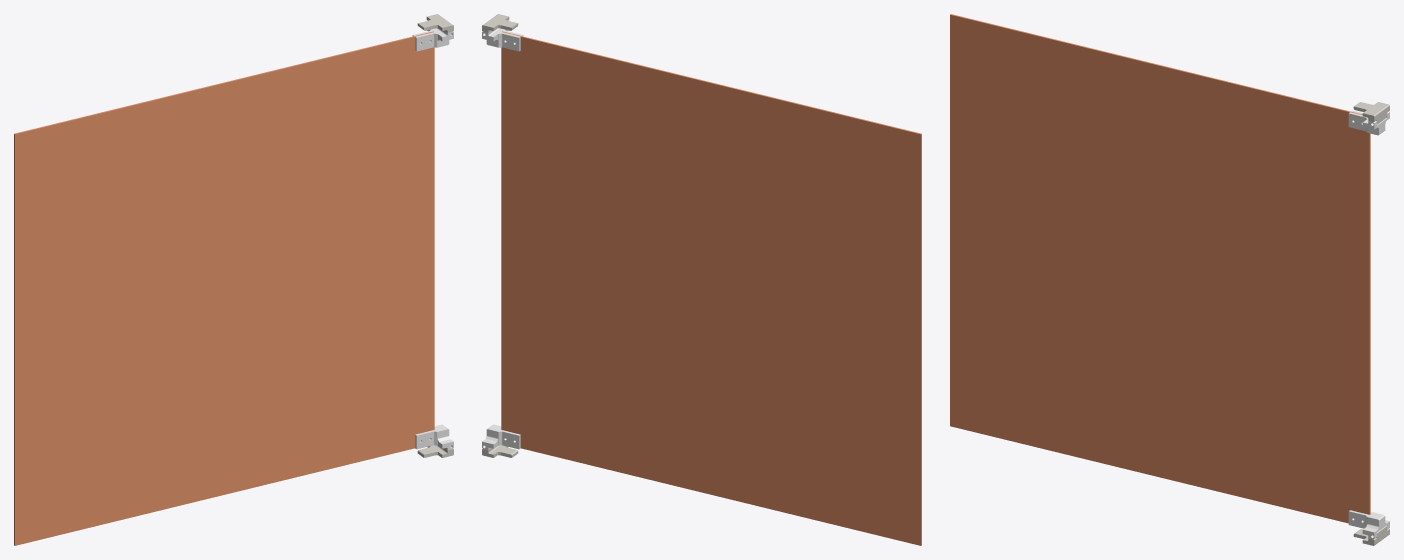
The model's file is Cloison.glb.
3 views of the same model, side by side, from view 1: azimuth 30°, elevation 25°; view 2: azimuth 150°, elevation 25°; view 3: azimuth 330°, elevation 25° (orthographic).
Visible parts, largest first — view 1: Part 4, Part 1 (×2); view 2: Part 4, Part 1 (×2); view 3: Part 4, Part 1 (×2), Part 2.
Part boxes in pixels (bbox=[...]): Part 4: bbox=[14, 31, 434, 545]; Part 1 (×2): bbox=[412, 28, 453, 450]; Part 4: bbox=[501, 31, 921, 545]; Part 1 (×2): bbox=[482, 28, 523, 450]; Part 4: bbox=[950, 14, 1370, 523]; Part 1 (×2): bbox=[1348, 110, 1389, 539]; Part 2: bbox=[1353, 102, 1389, 124].
Size of the model in its own units: 0.823 by 0.784 by 0.051.
